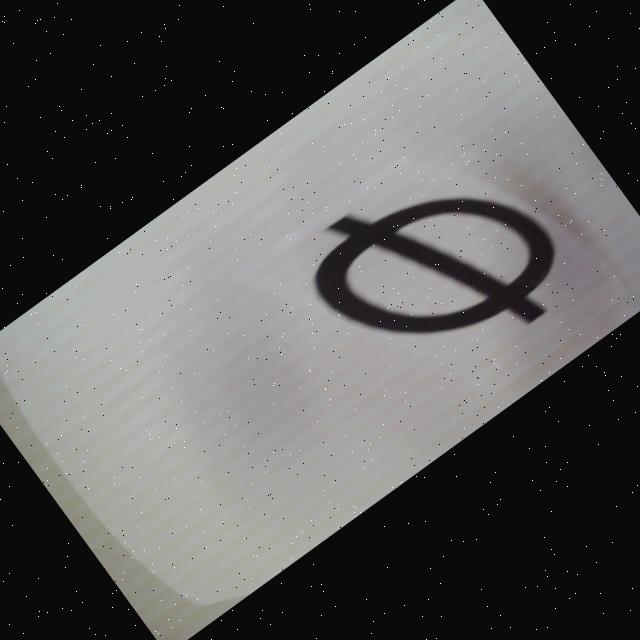PHI: (287, 121, 586, 414)
